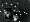person: (6, 9, 13, 20), (14, 9, 20, 21)
